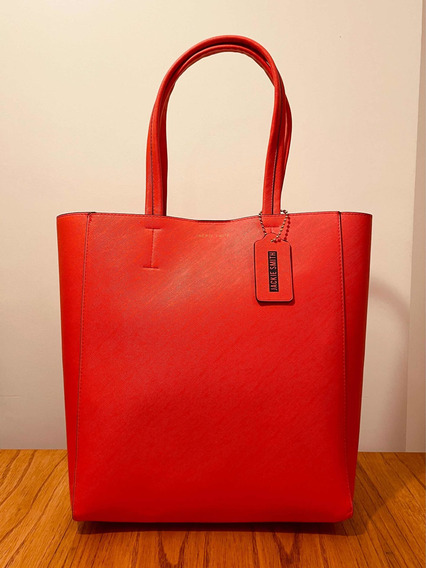cartera: (52, 33, 374, 525)
